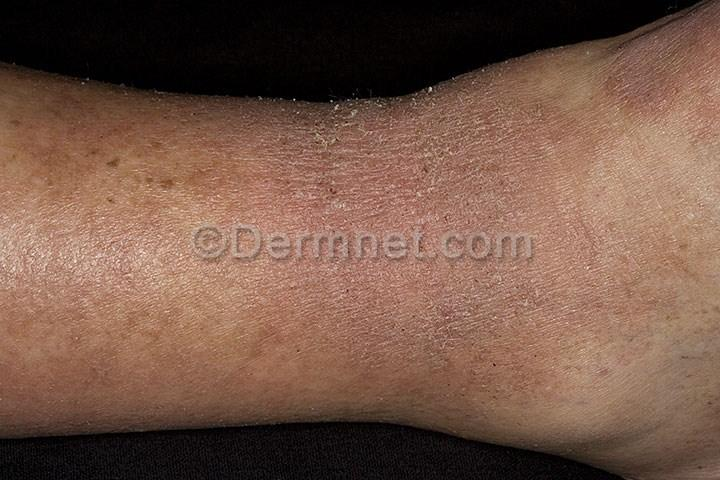Eczema: (232, 81, 535, 232), (321, 258, 616, 393), (601, 27, 720, 151)
